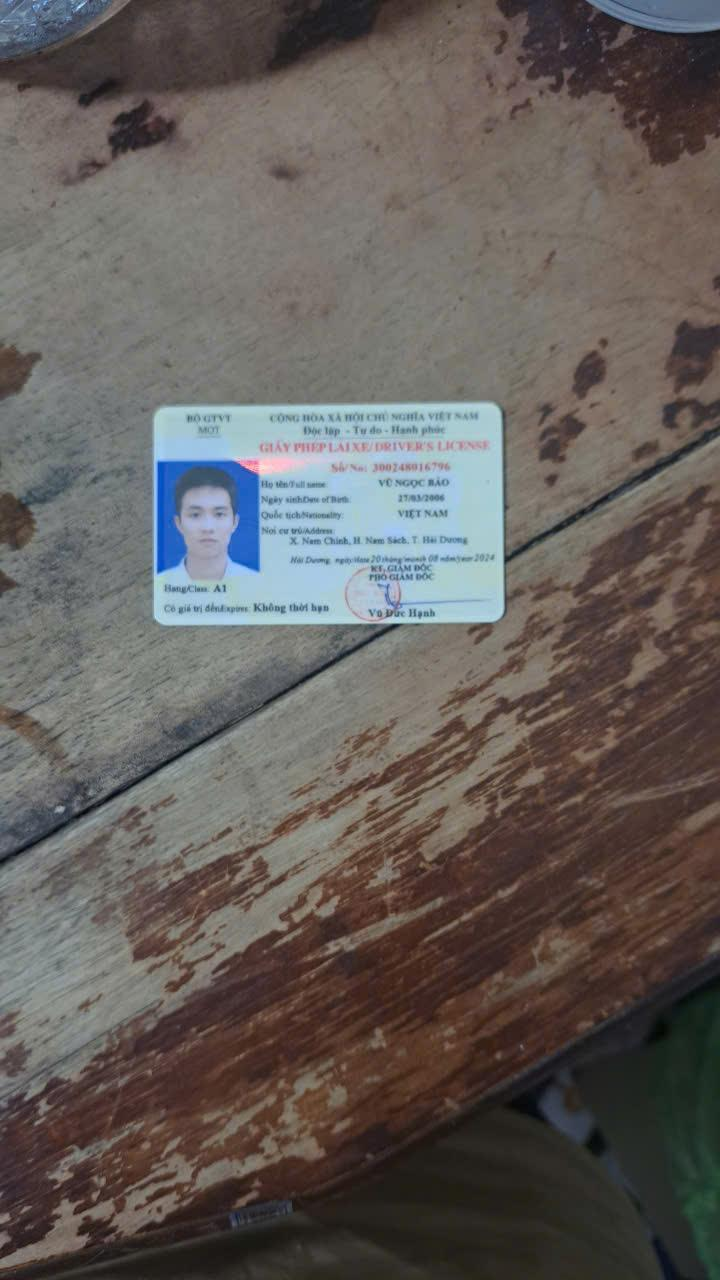gplx: (142, 395, 510, 630)
